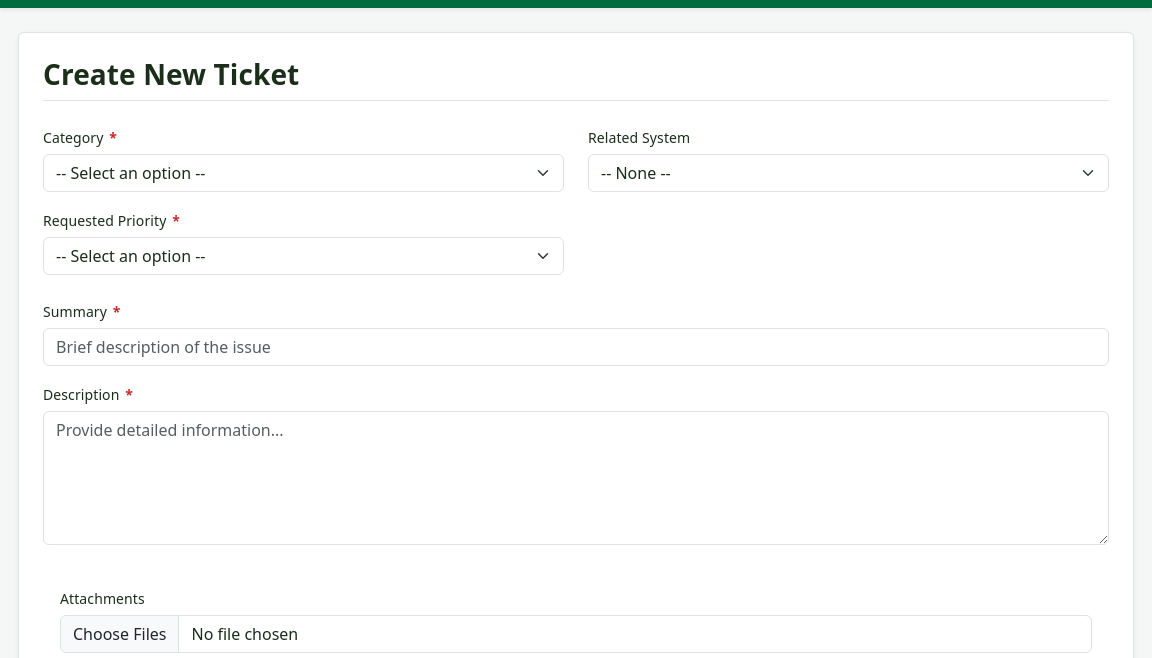
Test: Create Ticket Feature › renders green confirmation banner with success token background on ticket creation (ui-spec.md:99, 23-24)
Select "Hardware" in the dropdown labelled "Category *": (304, 173) [43,154,564,192]
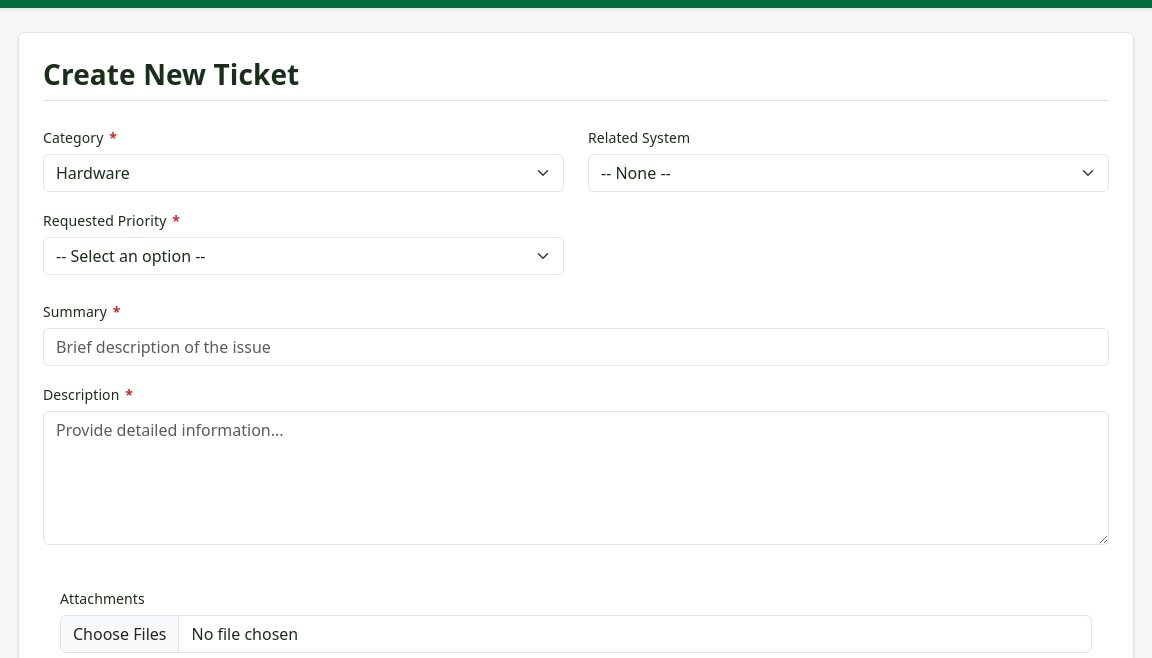
Select "High" in the dropdown labelled "Requested Priority *": (304, 256) [43,237,564,275]
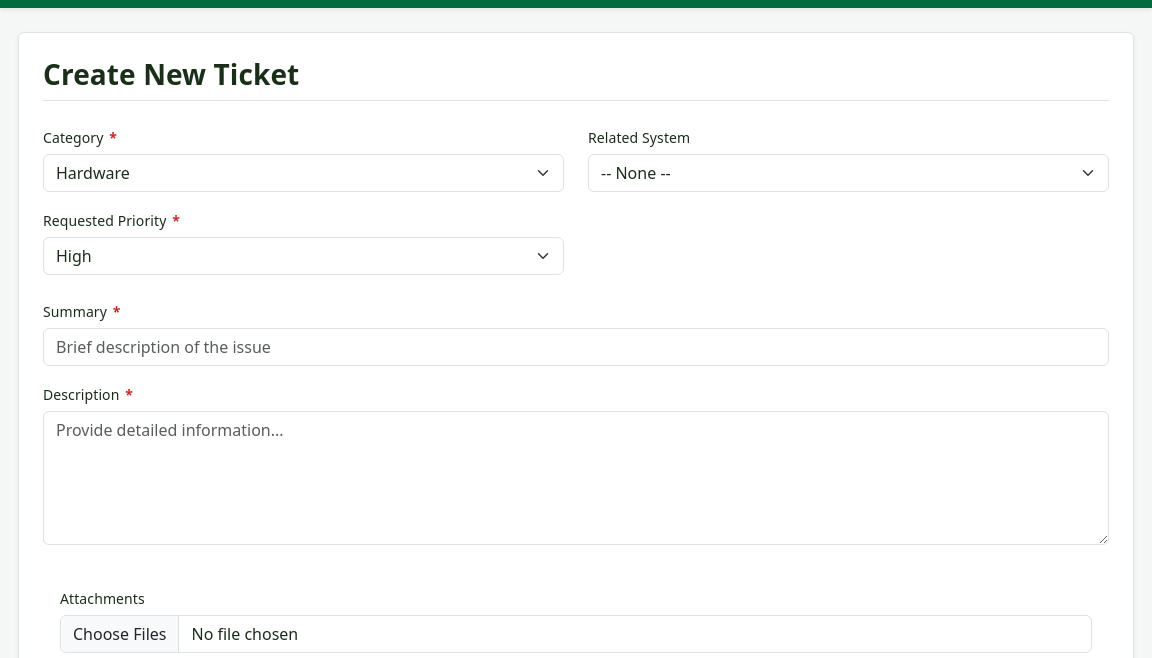
In the field labelled "Summary *": (576, 347) [43,328,1109,366], type "Printer not printing"
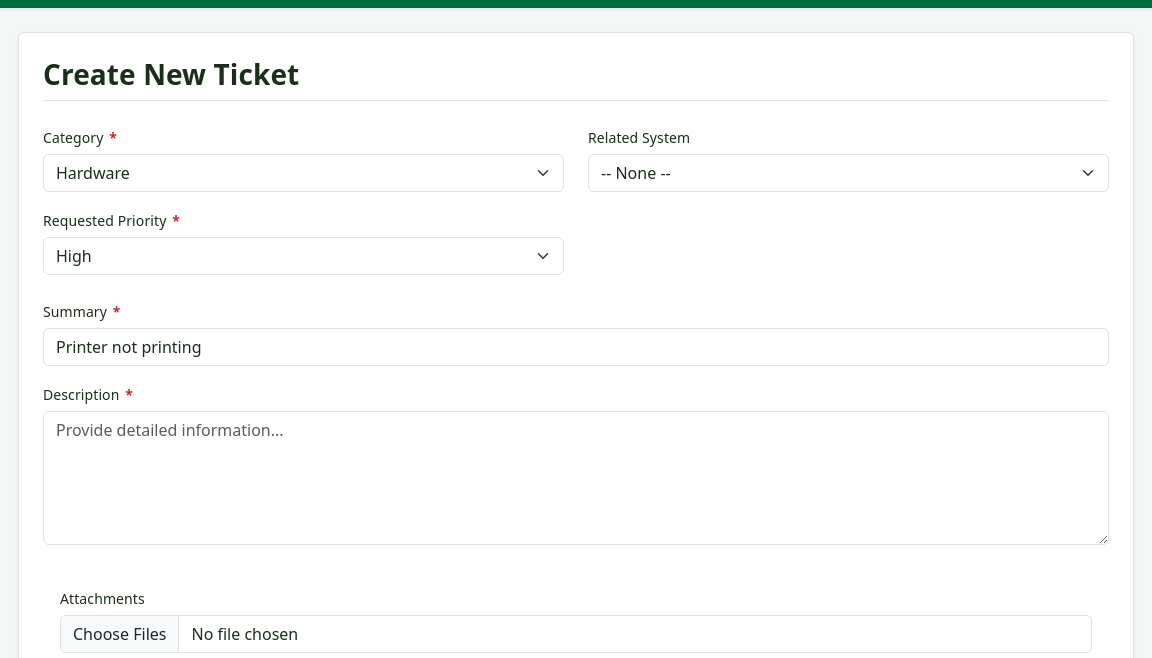
In the text box labelled "Description *": (576, 478) [43,411,1109,545], type "Need help to configure the printer"
(page scrolled)
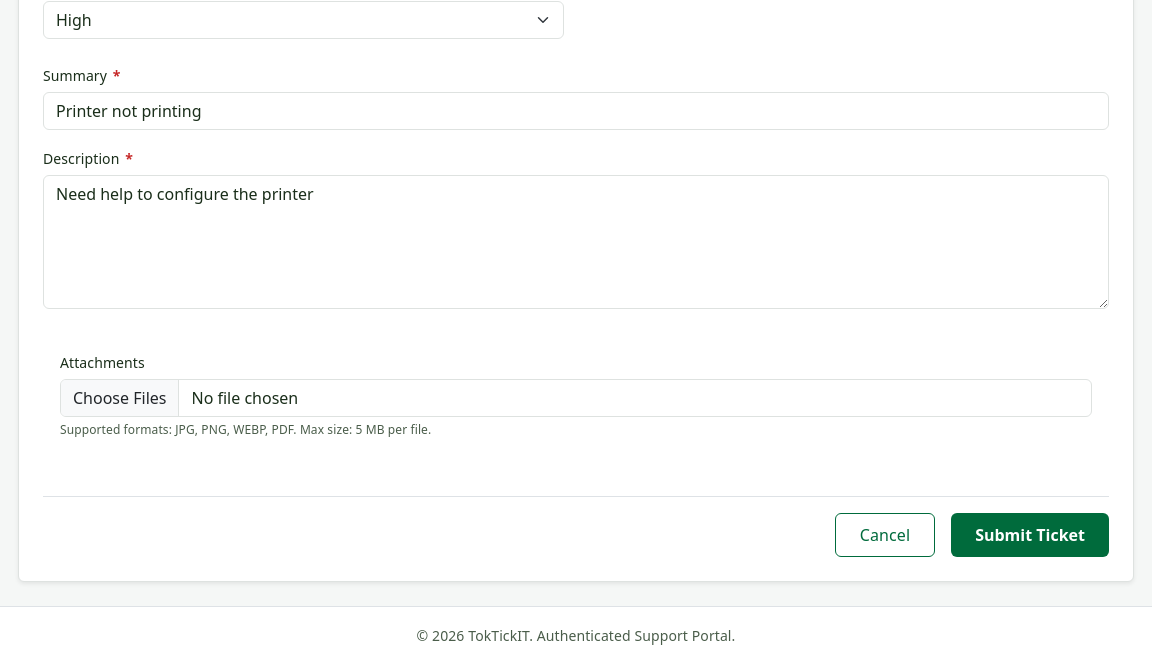
Click the button "Submit Ticket": (1030, 535) [951,513,1109,557]
(page scrolled)
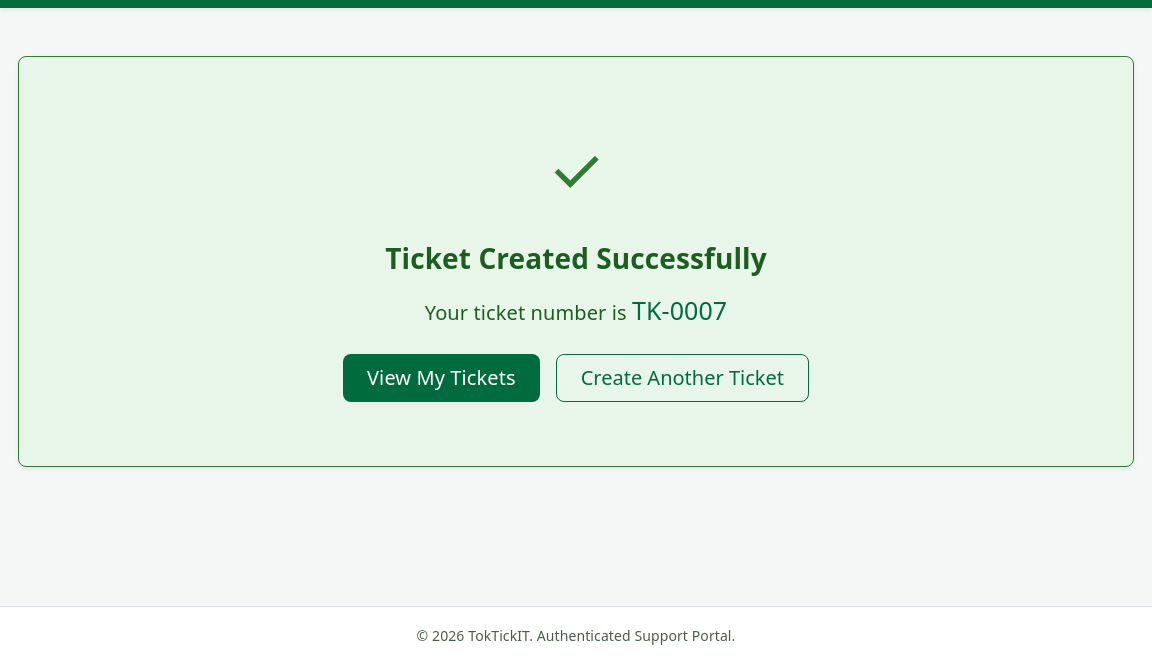
Result: the message is shown
Result: the text "TK-0007" is shown at [632,293,727,327]
